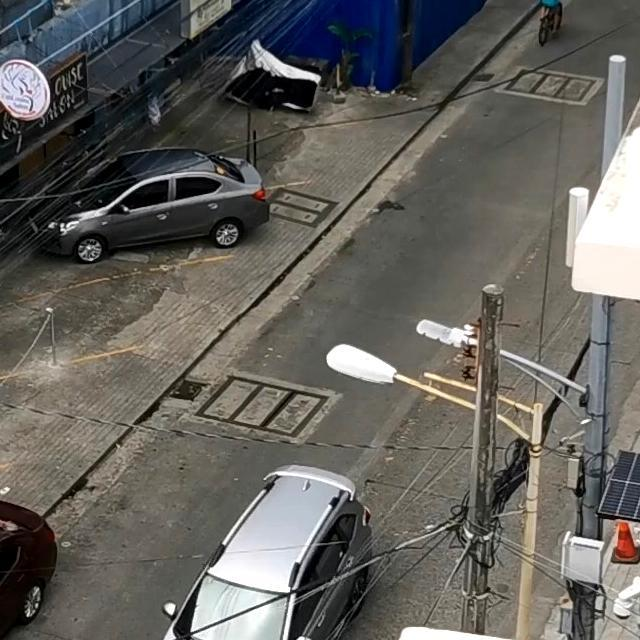Car: (163, 466, 372, 639), (44, 148, 269, 263), (0, 500, 56, 638)
